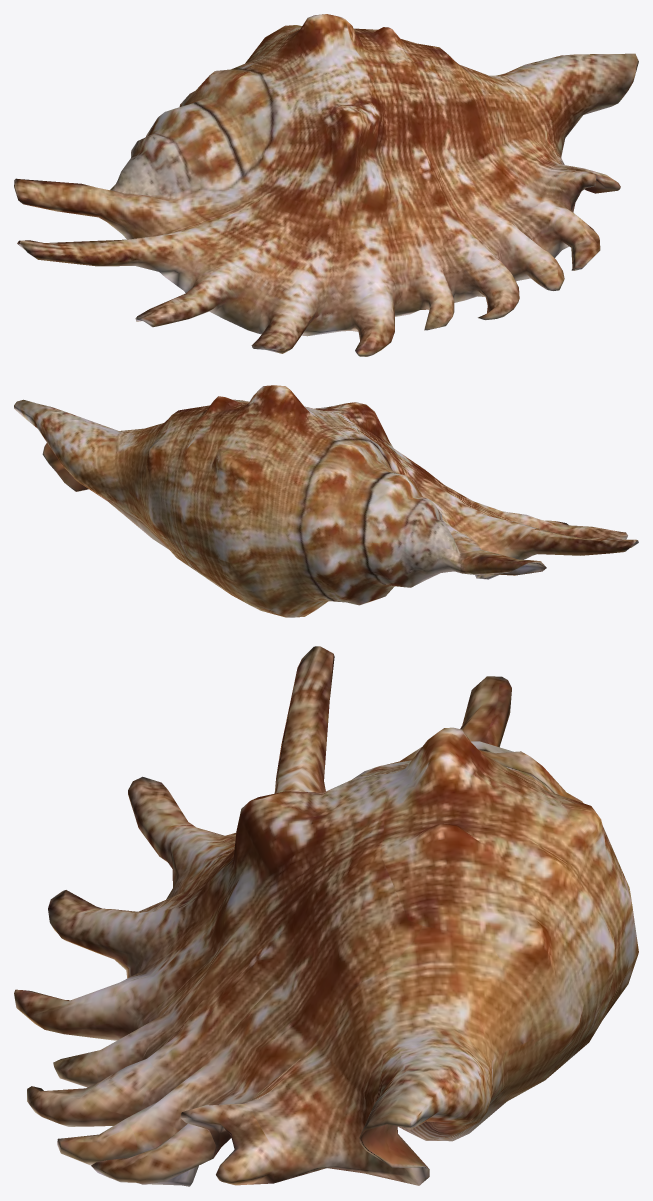
File: lambis_shell.glb
3 views of the same model, one above another, from view 1: azimuth 30°, elevation 25°; view 2: azimuth 150°, elevation 25°; view 3: azimuth 270°, elevation 25° (orthographic). The views are drawn at different scales.
Visible parts, largest first — view 1: lambis_shell; view 2: lambis_shell; view 3: lambis_shell.
Part boxes in pixels (box(x1,y1,x2,y2)): lambis_shell: box(14, 14, 638, 356); lambis_shell: box(14, 385, 638, 617); lambis_shell: box(14, 646, 638, 1186).
Size of the model in its own units: 0.1389 by 0.0464 by 0.0744.
Materials: 1 (1 with a texture image).
